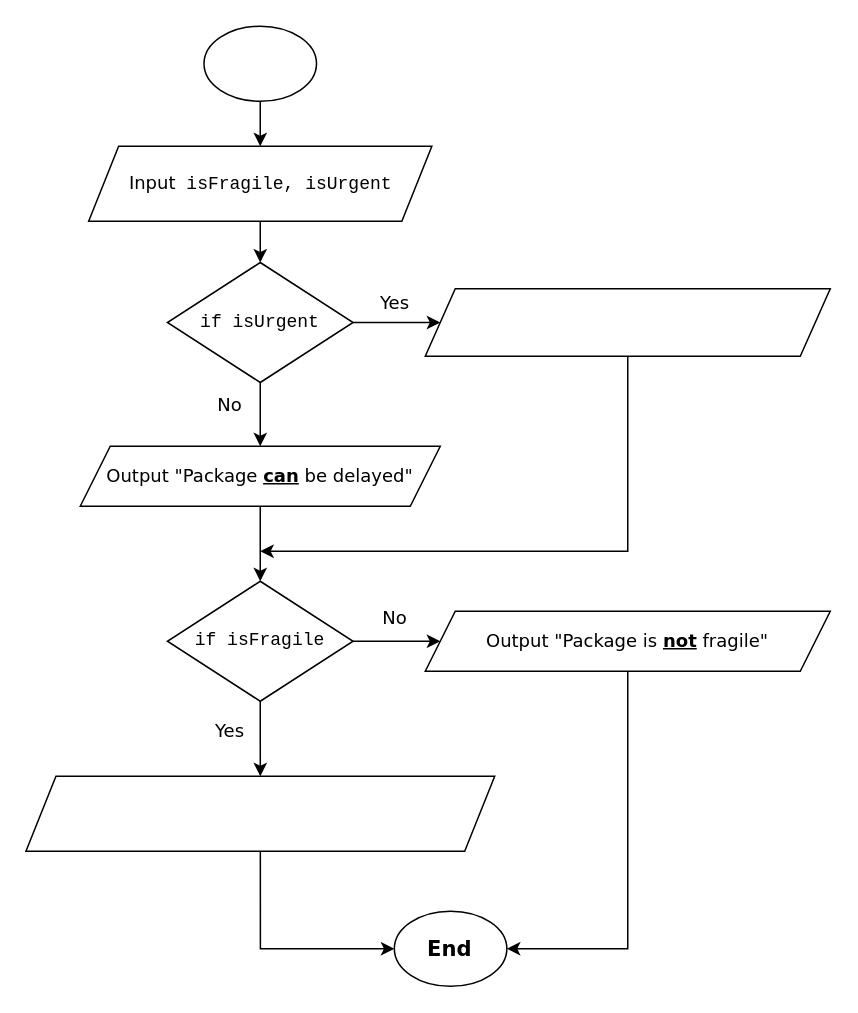
Image size: 858x1013. Some labels were removed from this diagram. The centre of each missing label's shape, as x and y in pixels:
Output "Package cannot be delayed": point 627,321
Output "Package must be handled carefully ": point 259,813
Start: point 259,63
